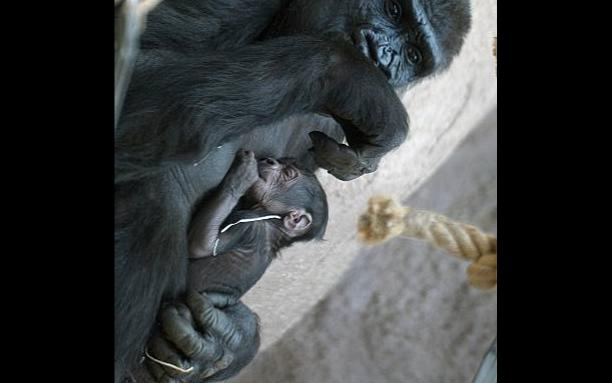gorille_Autres: (149, 0, 496, 187)
